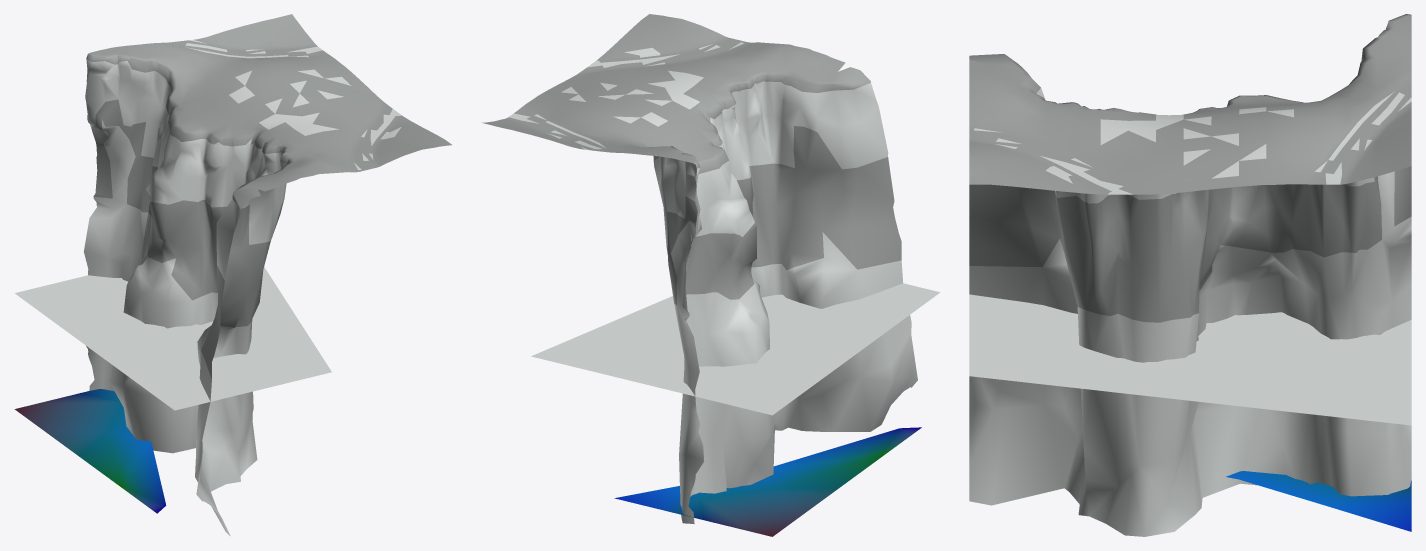
3 renders of one model, left to right at view 1: azimuth 30°, elevation 25°; view 2: azimuth 150°, elevation 25°; view 3: azimuth 270°, elevation 25°, orthographic. The views are drawn at different scales.
Parts seen in each view (by area): view 1: G:\FFXIV-MapTools\exports\w1f5\bg\ffxiv\wil_w1\fld\w1f5\bgpl (×14); view 2: G:\FFXIV-MapTools\exports\w1f5\bg\ffxiv\wil_w1\fld\w1f5\bgpl (×15); view 3: G:\FFXIV-MapTools\exports\w1f5\bg\ffxiv\wil_w1\fld\w1f5\bgpl (×14).
Boxes of the visible parts, x1=… form: G:\FFXIV-MapTools\exports\w1f5\bg\ffxiv\wil_w1\fld\w1f5\bgpl (×14): x1=14, y1=14, x2=451, y2=536; G:\FFXIV-MapTools\exports\w1f5\bg\ffxiv\wil_w1\fld\w1f5\bgpl (×15): x1=482, y1=14, x2=939, y2=536; G:\FFXIV-MapTools\exports\w1f5\bg\ffxiv\wil_w1\fld\w1f5\bgpl (×14): x1=969, y1=14, x2=1411, y2=536.
Size of the model in its own units: 128 by 160 by 128.
